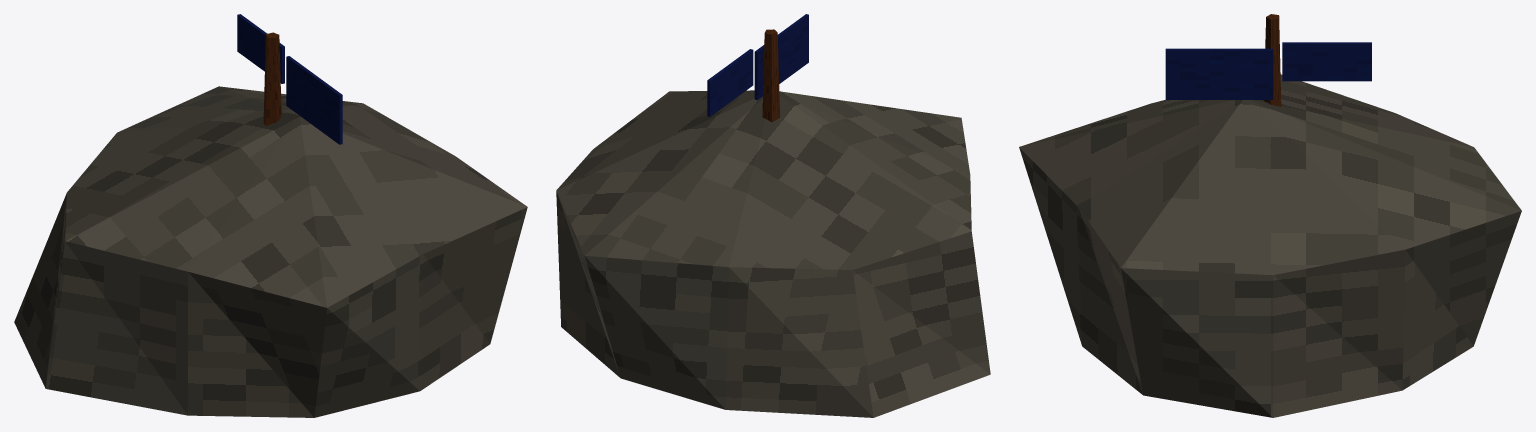
Rendered from ovoo.glb.
3 views of the same model, side by side, from view 1: azimuth 30°, elevation 25°; view 2: azimuth 150°, elevation 25°; view 3: azimuth 270°, elevation 25° (orthographic). The views are drawn at different scales.
Parts seen in each view (by area): view 1: piedras, jadag, poste; view 2: piedras, jadag, poste; view 3: piedras, jadag, poste.
Part boxes in pixels (bbox=[...]): piedras: bbox=[14, 86, 527, 417]; jadag: bbox=[237, 14, 342, 144]; poste: bbox=[263, 32, 281, 125]; piedras: bbox=[556, 90, 990, 417]; jadag: bbox=[707, 14, 808, 116]; poste: bbox=[762, 29, 779, 122]; piedras: bbox=[1019, 74, 1521, 417]; jadag: bbox=[1165, 42, 1371, 99]; poste: bbox=[1263, 14, 1281, 106].
Bounding box in the file's own units: 3 × 2 × 3.
1 material, 1 textured.
